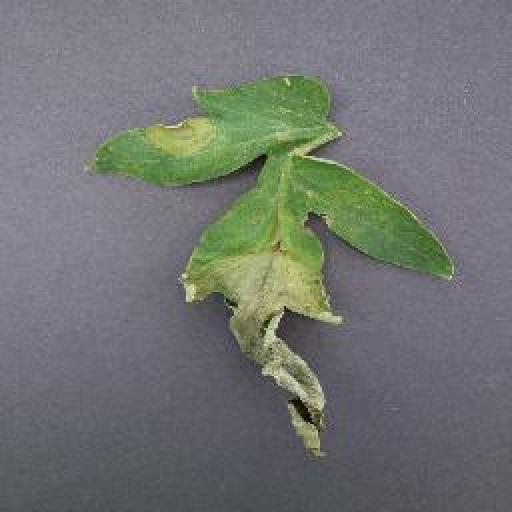disease_tomato: (80, 71, 452, 464)
